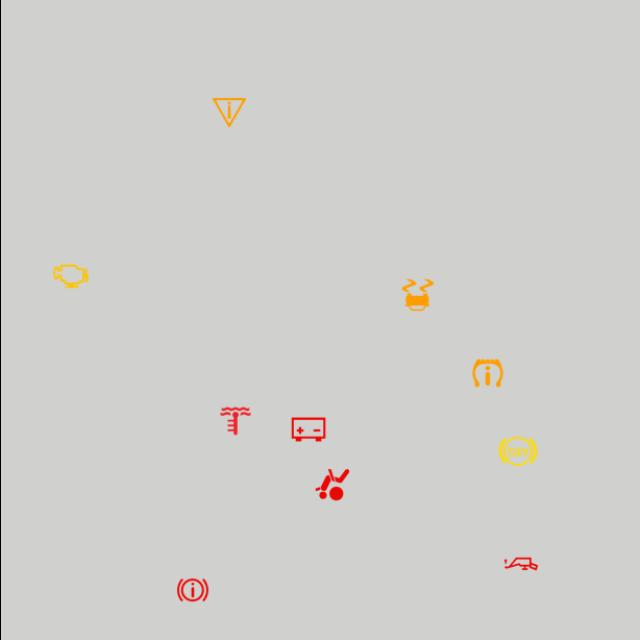Anti Lock Braking System: (496, 430, 538, 472)
Braking System Issue: (171, 569, 213, 611)
Charging System Issue: (286, 408, 328, 451)
Check Engine: (49, 255, 91, 297)
Electronic Stability Problem -ESP-: (396, 274, 438, 316)
Engine Overheating Warning Light: (213, 400, 256, 442)
Low Engine Oil Warning Light: (499, 543, 541, 585)
Low Tire Pressure Warning Light: (466, 352, 508, 394)
Master warning light: (208, 92, 250, 134)
SRS-Airbag: (310, 464, 352, 506)
